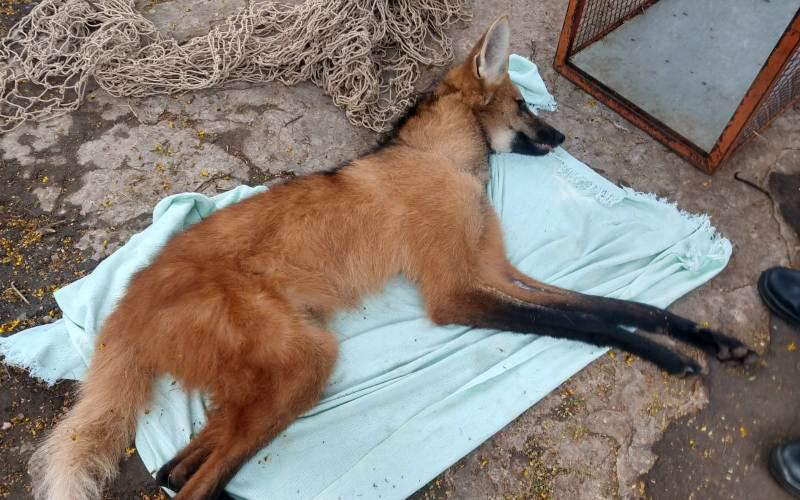LoboGuara: (39, 15, 752, 484)
